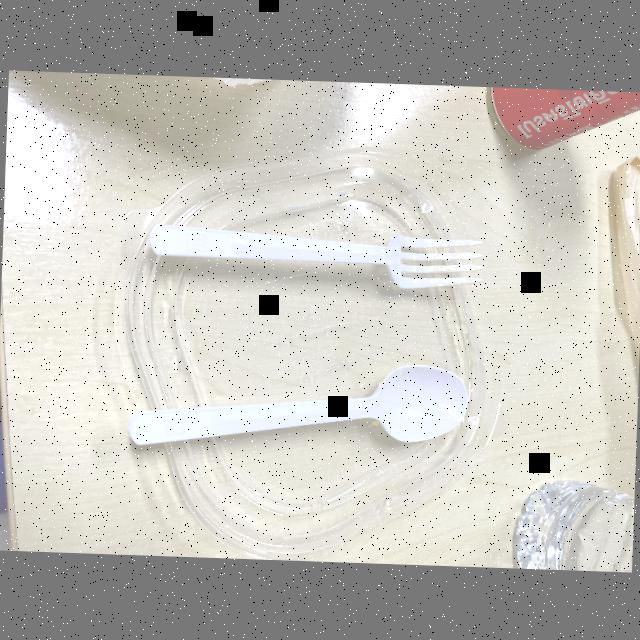plastic_spoon: (116, 342, 478, 465), (141, 204, 493, 312)
